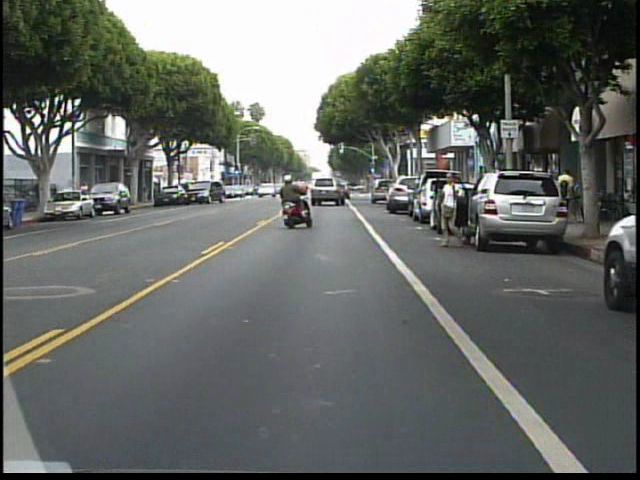person: (273, 169, 315, 231), (436, 166, 465, 249), (556, 165, 576, 226)
